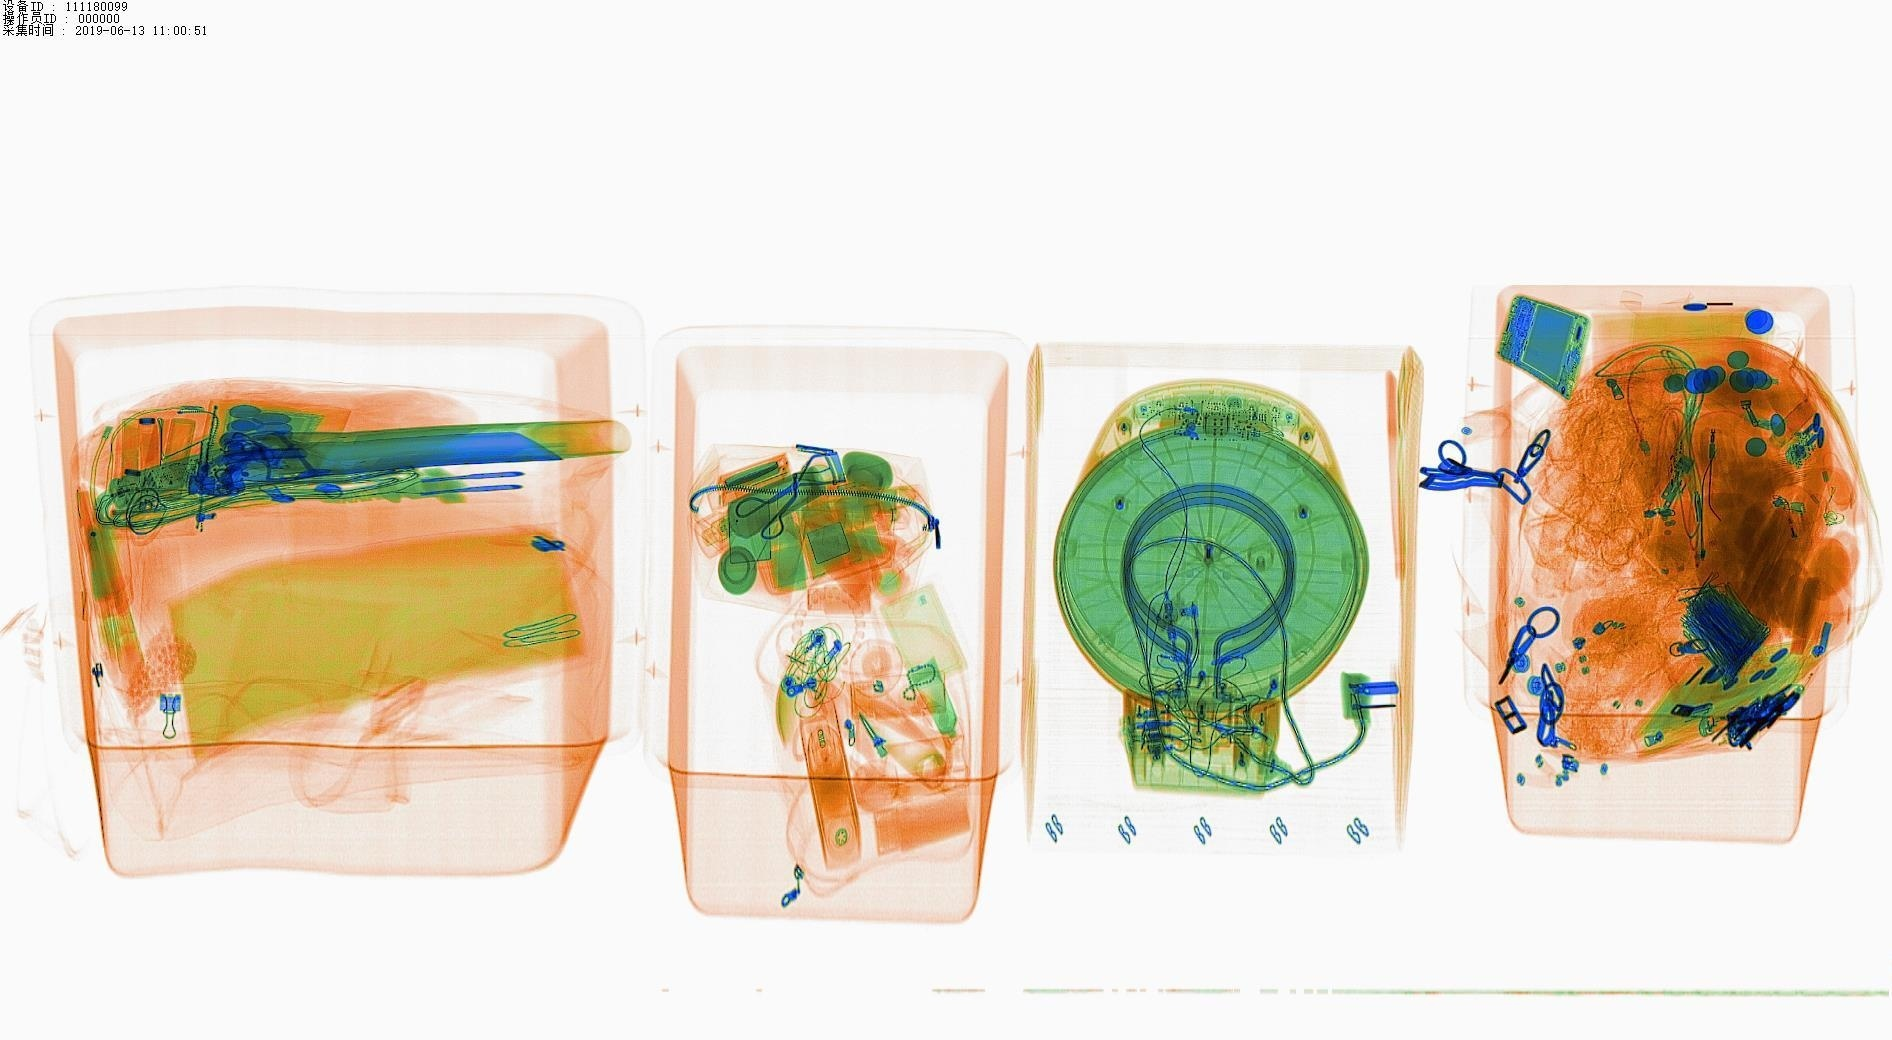NonmetallicFire: (1687, 692, 1760, 749), (1776, 484, 1822, 574)
